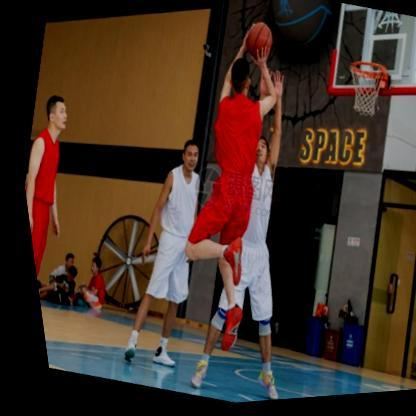basketball: (238, 23, 276, 65)
rim: (335, 62, 389, 125)
